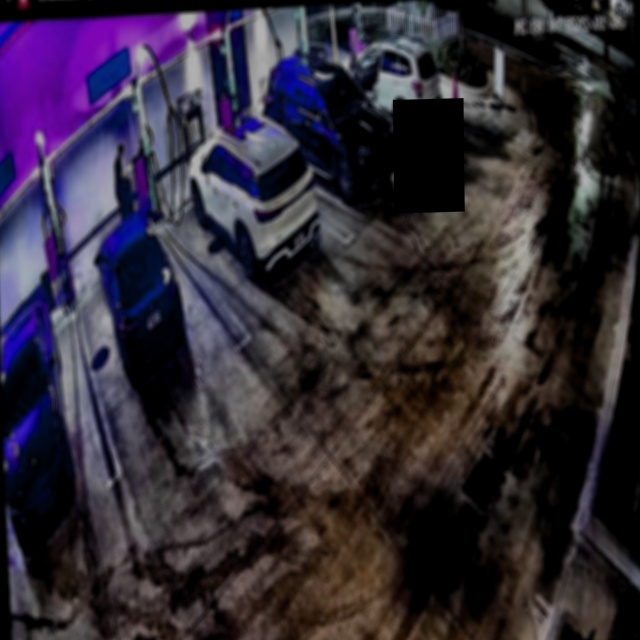Car: (187, 113, 321, 286), (261, 47, 398, 204), (91, 209, 185, 391)
